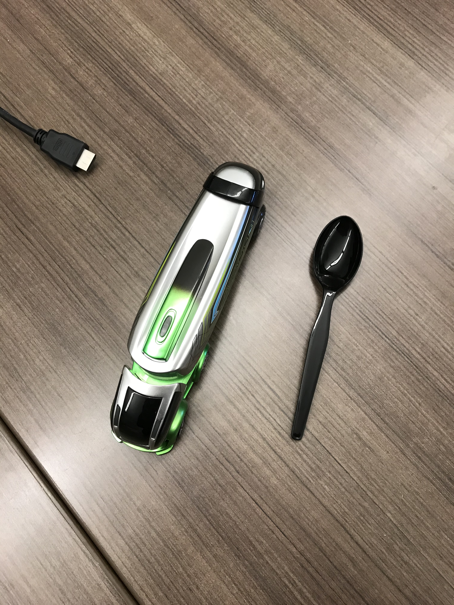Freewheel: (110, 161, 268, 457)
